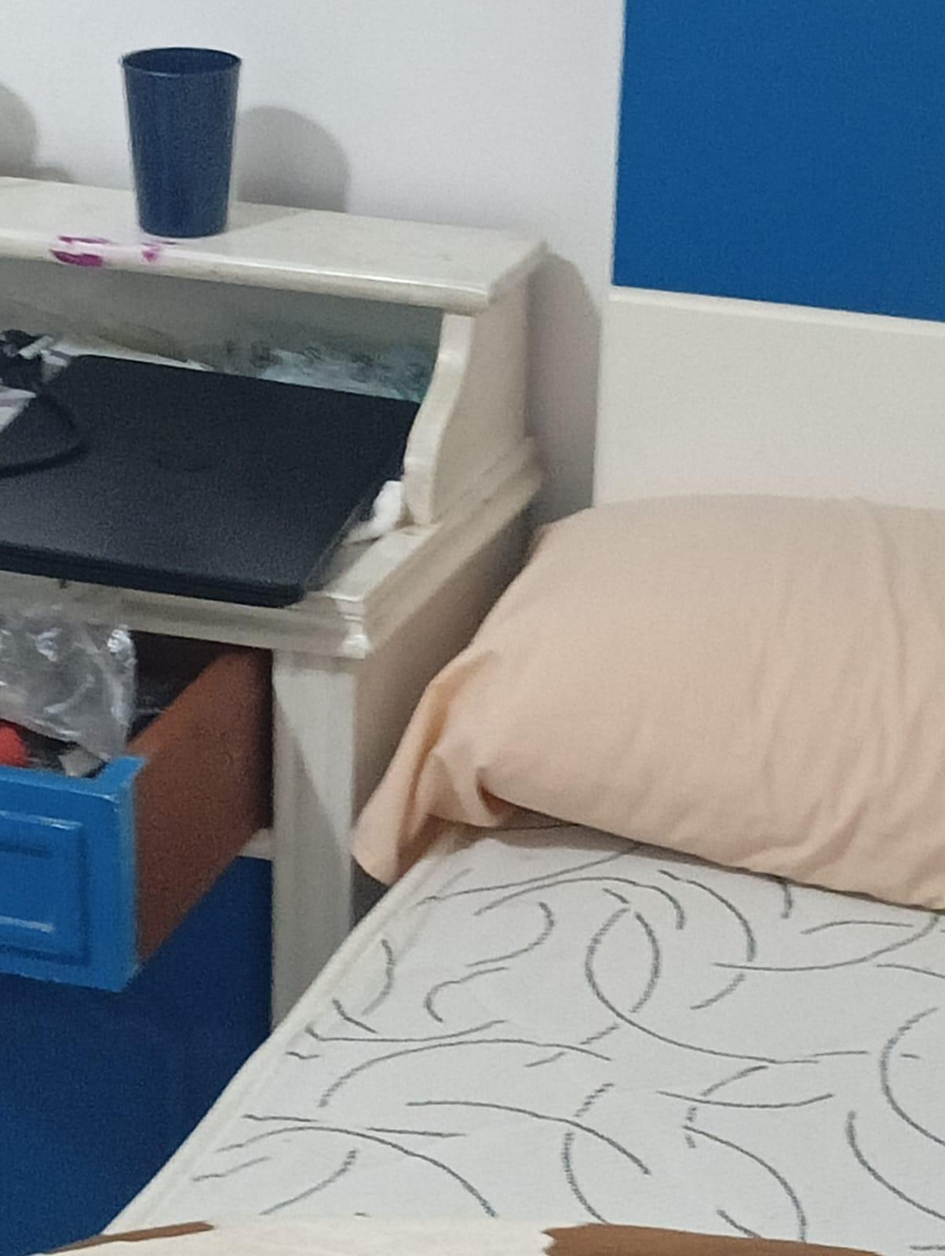cup: (122, 47, 240, 237)
